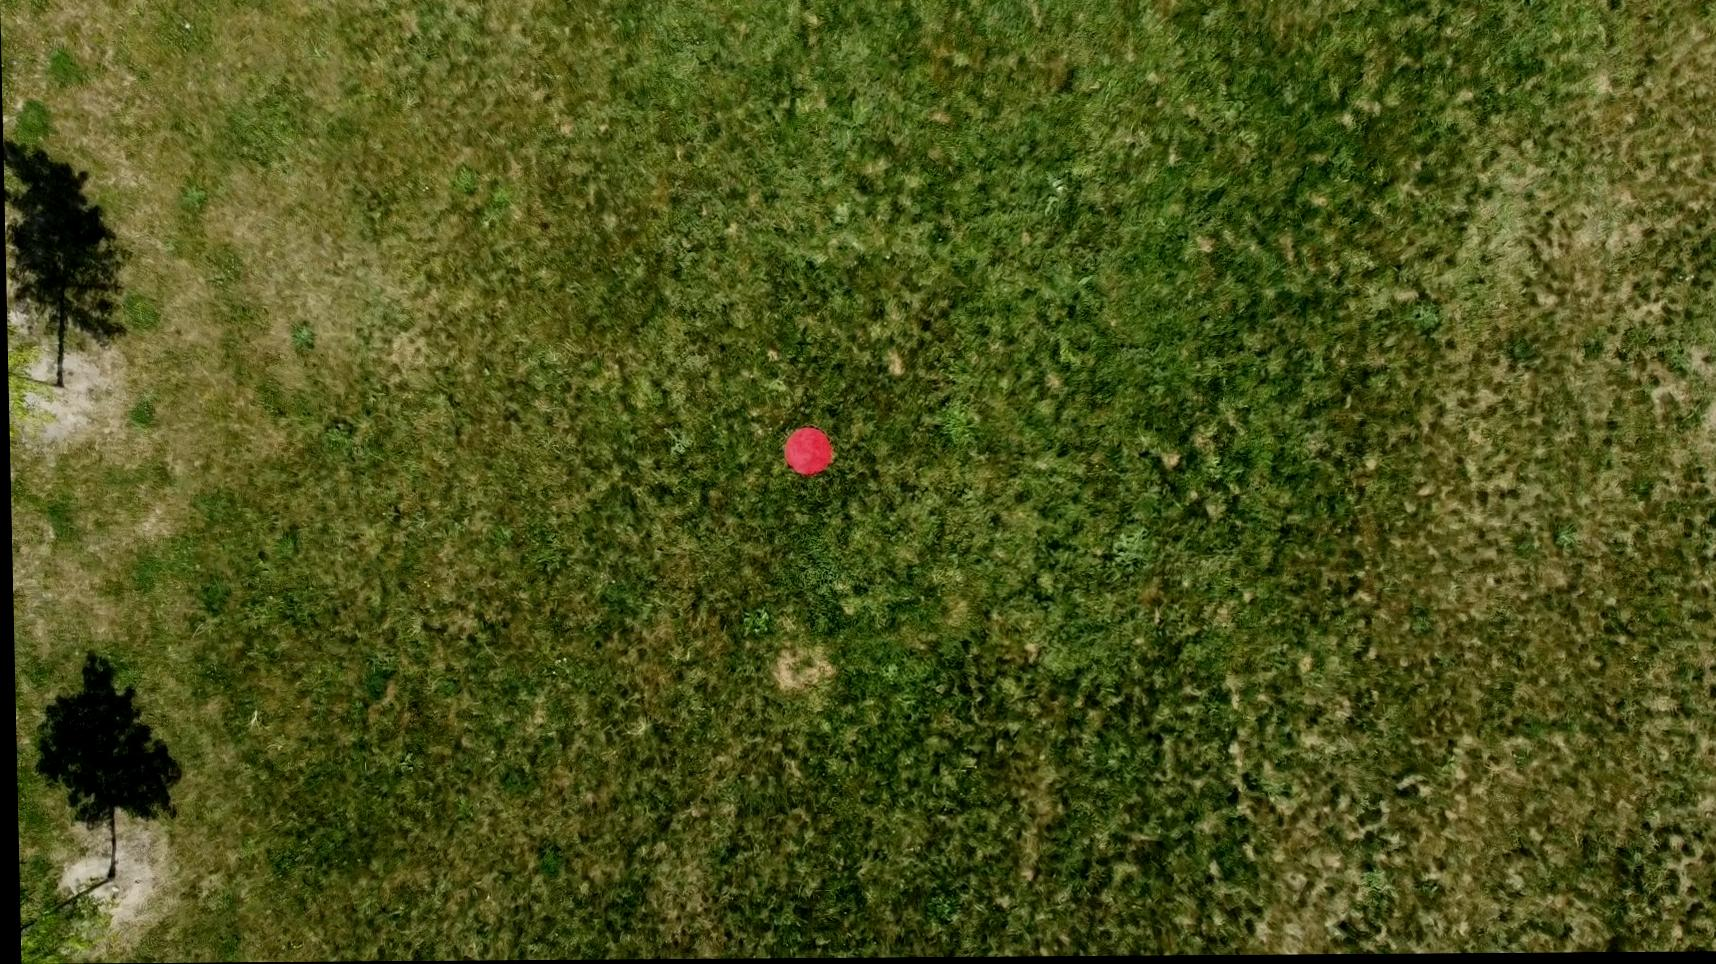Red: (781, 425, 833, 480)
